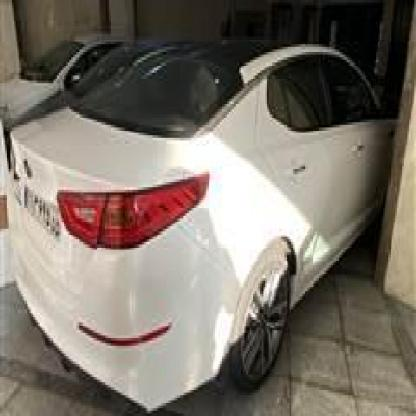Car: (5, 39, 395, 398), (0, 21, 116, 148)
